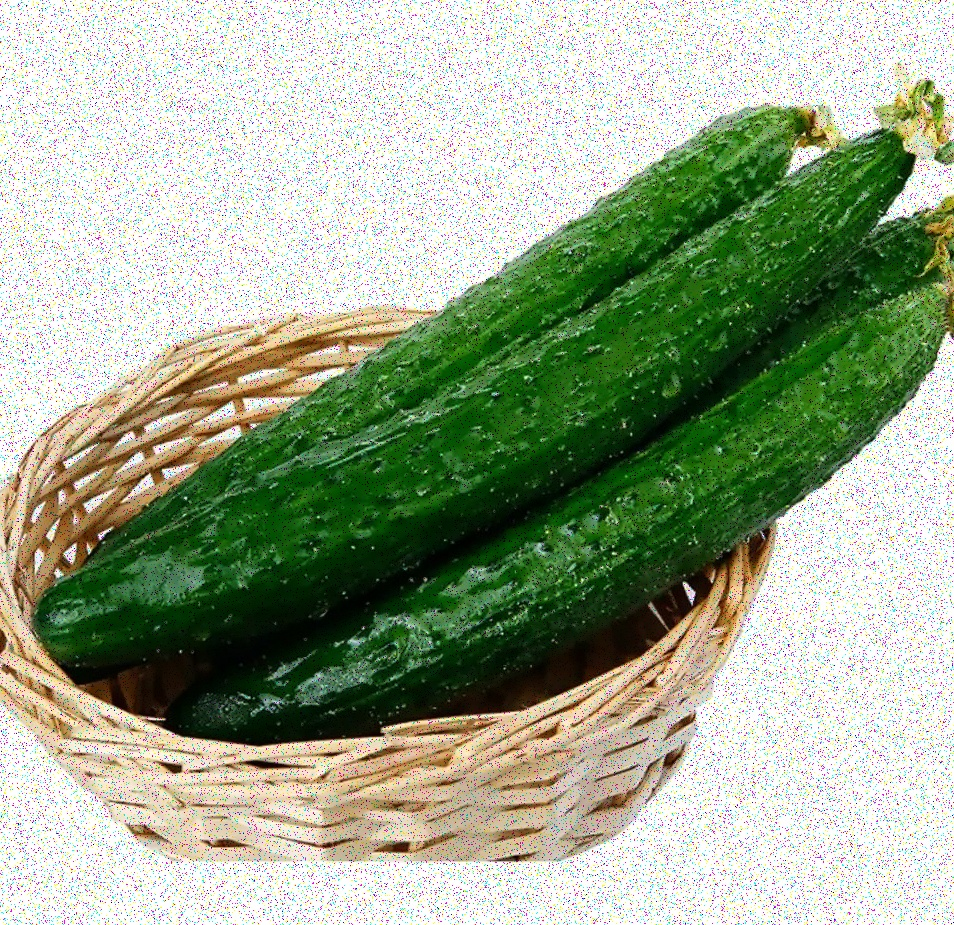cucumber: (56, 132, 918, 662), (213, 292, 948, 766)
